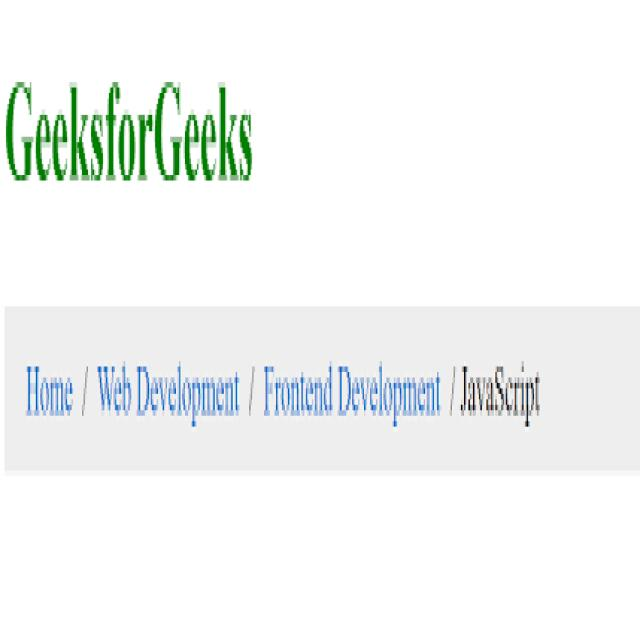Breadcrumb: (24, 364, 544, 429)
text: (6, 72, 254, 201)
